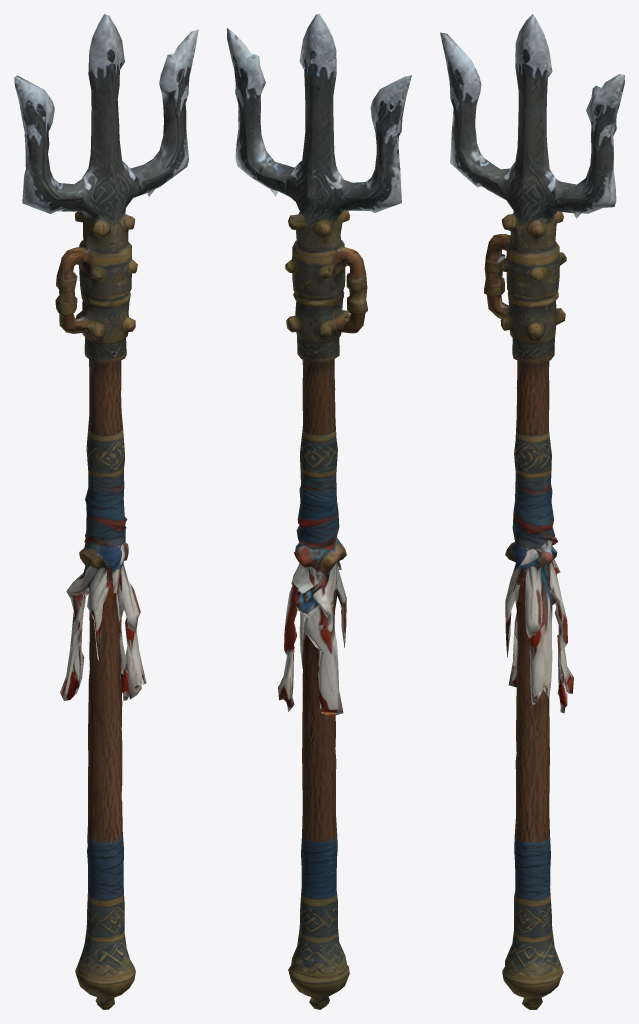
The model's file is PR_Weapon_Dangpa.fbx.
The picture shows the model from 3 angles, left to right: view 1: azimuth 30°, elevation 25°; view 2: azimuth 150°, elevation 25°; view 3: azimuth 330°, elevation 25°; orthographic projection.
Parts seen in each view (by area): view 1: texture_mapping; view 2: texture_mapping; view 3: texture_mapping.
Boxes of the visible parts, x1,y1,x2,y2 form: texture_mapping: (14,14,198,1009); texture_mapping: (227,14,411,1009); texture_mapping: (440,14,624,1009).
Bounding box in the file's own units: 0.1943 × 0.0699 × 0.9999.
1 material, 1 textured.
